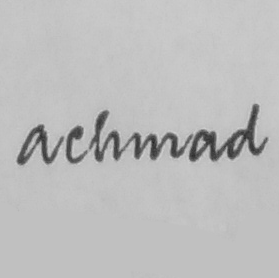a: (14, 122, 51, 167), (186, 127, 219, 164)
c: (65, 124, 89, 167)
d: (224, 100, 269, 163)
h: (93, 107, 124, 164)
m: (130, 131, 179, 162)
